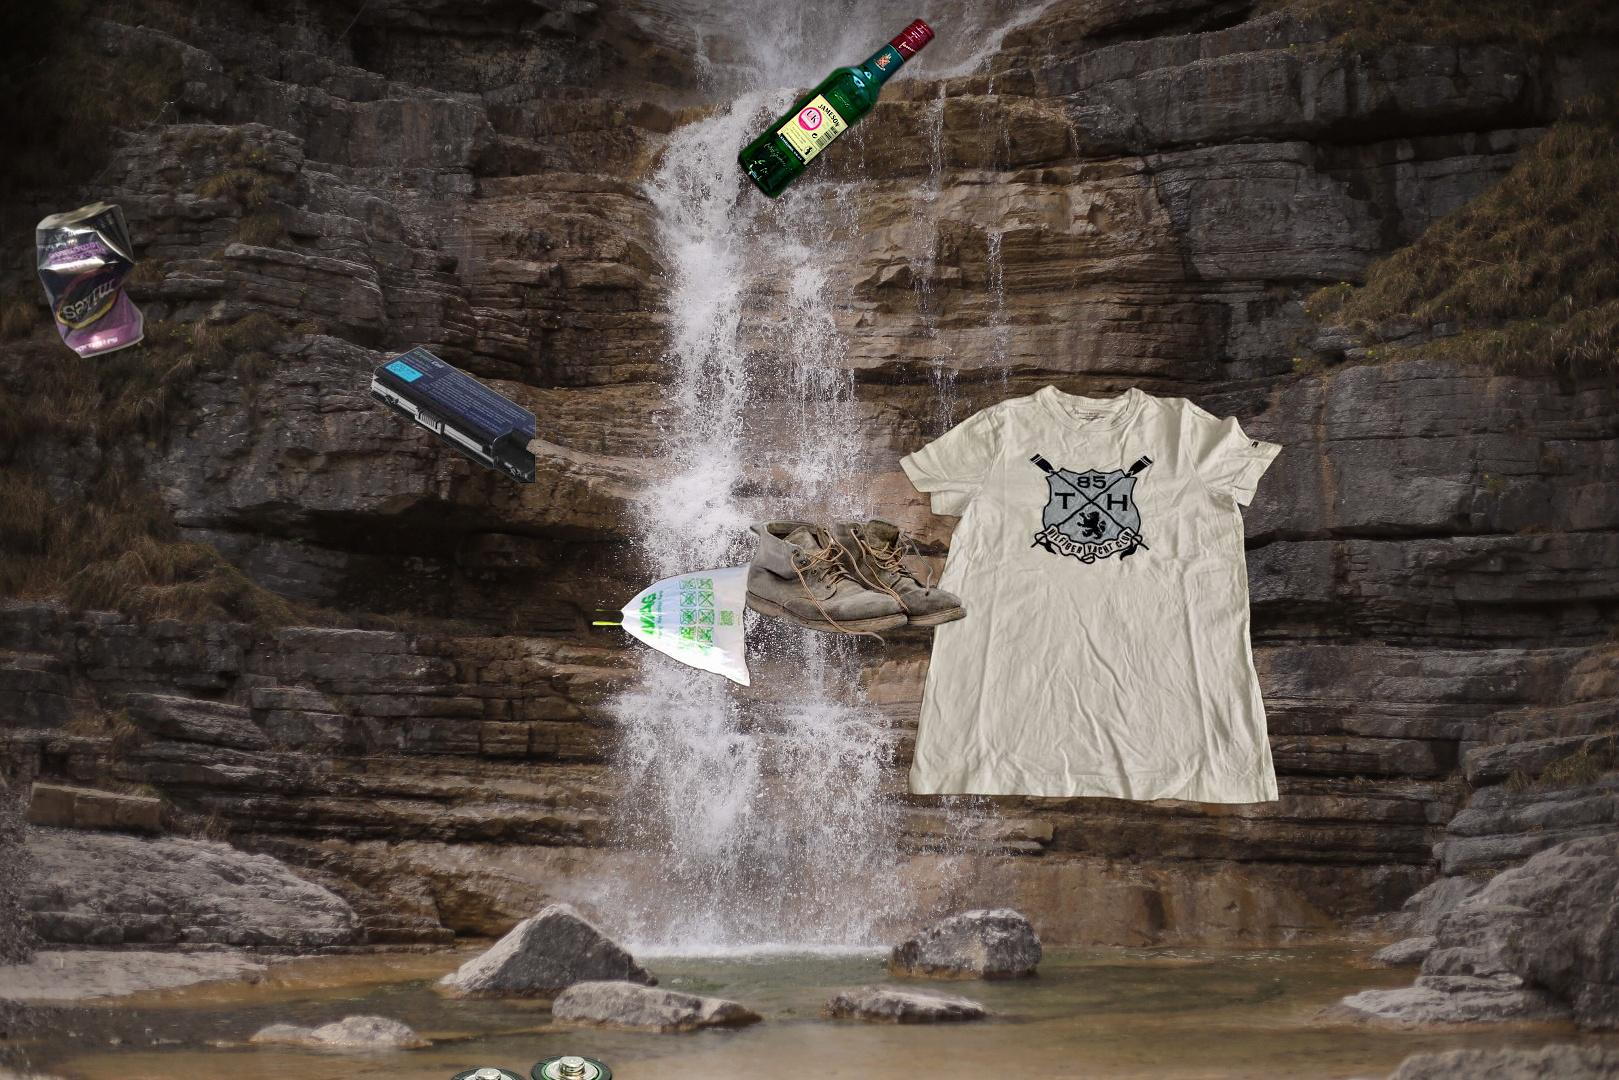battery: (365, 344, 540, 486), (277, 1051, 620, 1080)
clothes: (894, 380, 1287, 809)
glass: (733, 12, 940, 205)
metal-cans: (33, 196, 148, 362)
plastic-bag: (589, 558, 758, 689)
shoes: (743, 516, 969, 652)
